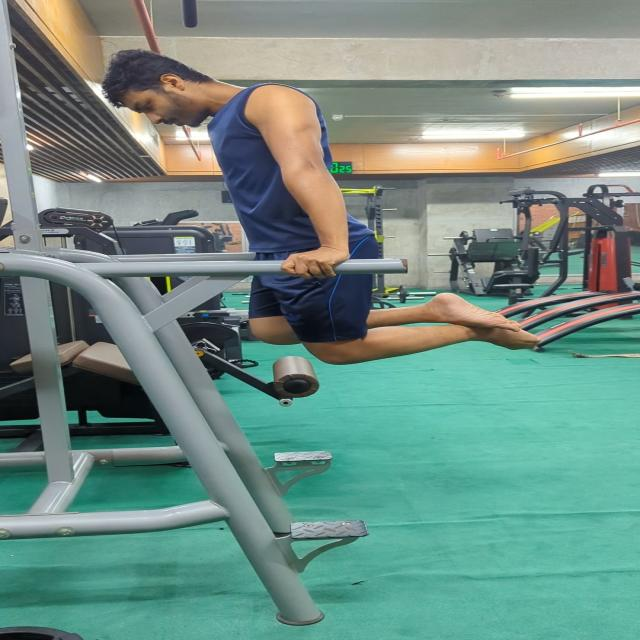Normal_Dips: (86, 43, 551, 372)
